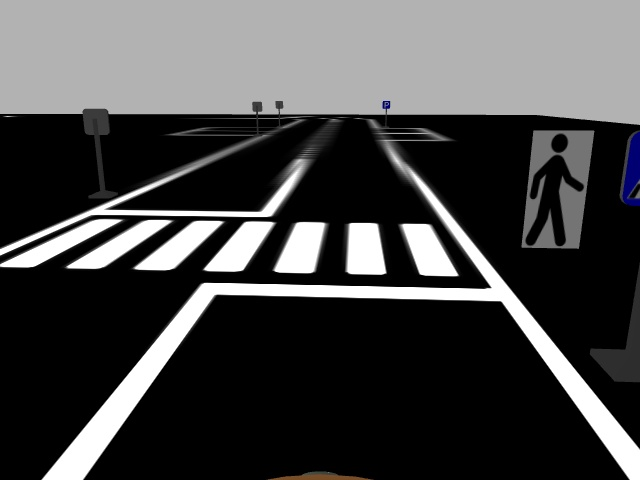parking: (380, 99, 392, 111)
pedestrian: (518, 129, 597, 251)
